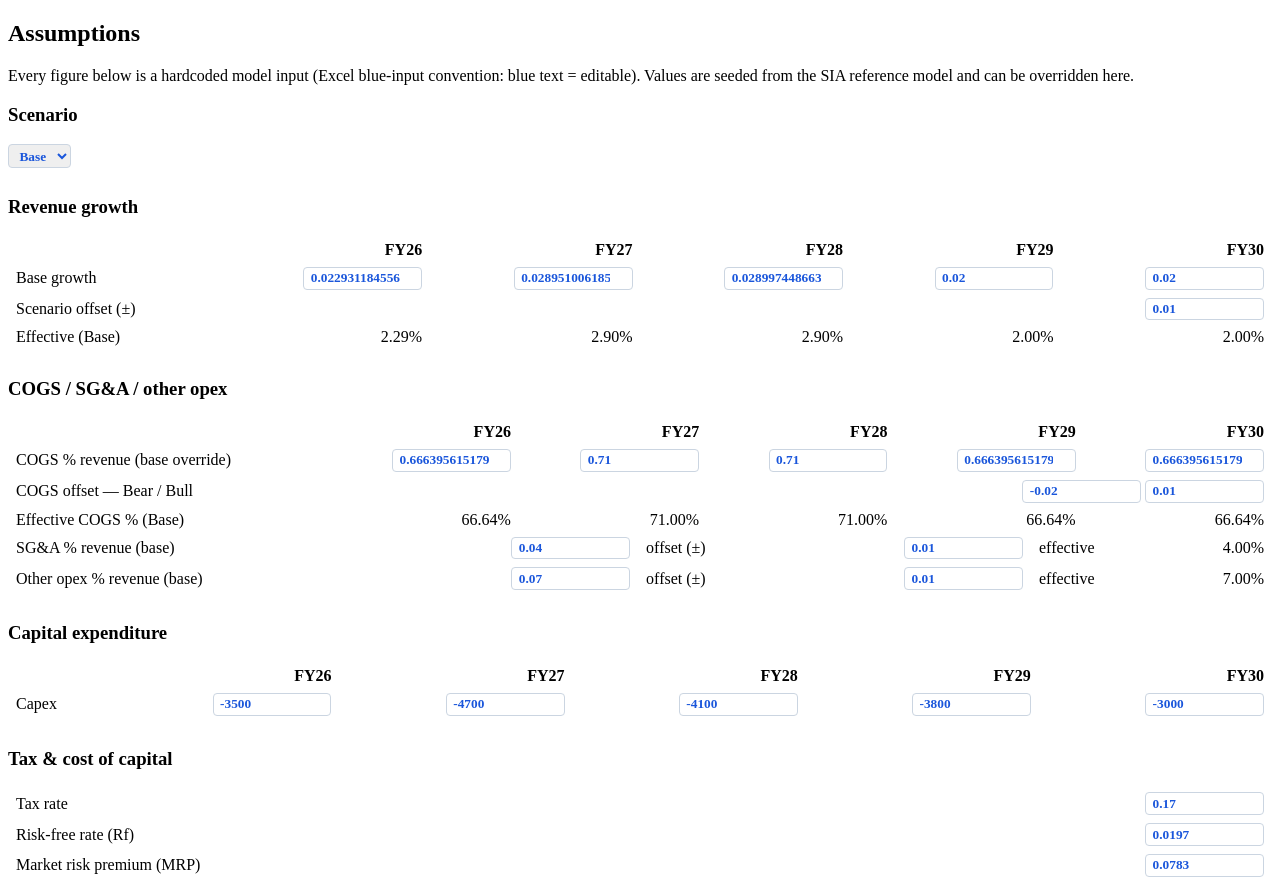
Test case: AssumptionsView › editing the base revenue growth input updates the effective figure
Replace the text in the number field named "Base revenue growth FY26" with "0.05" at [363, 278], box x1=303 y1=267 x2=422 y2=290
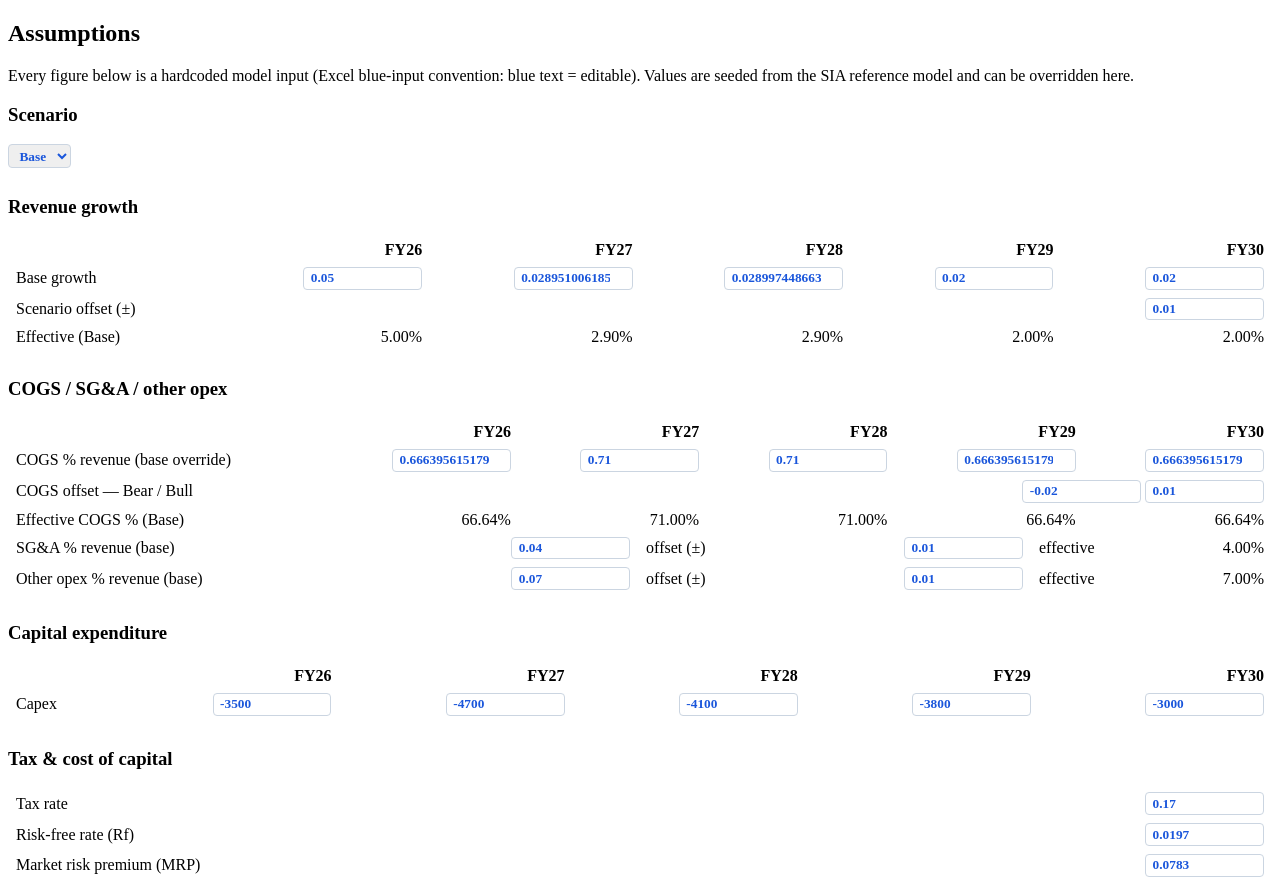
Expected: the cell with test id "effective-revenue-growth-0" reads "5.00%", x1=381 y1=328 x2=422 y2=345
